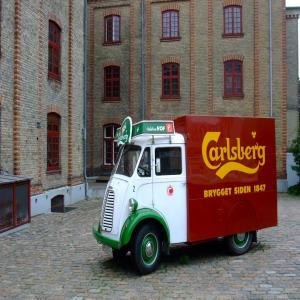Vehicle-registration-plate: (102, 245, 114, 258)
